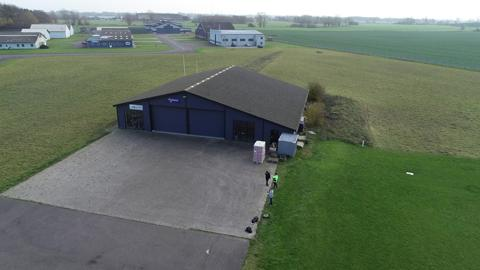RockwoolPallet: (253, 140, 266, 165)
